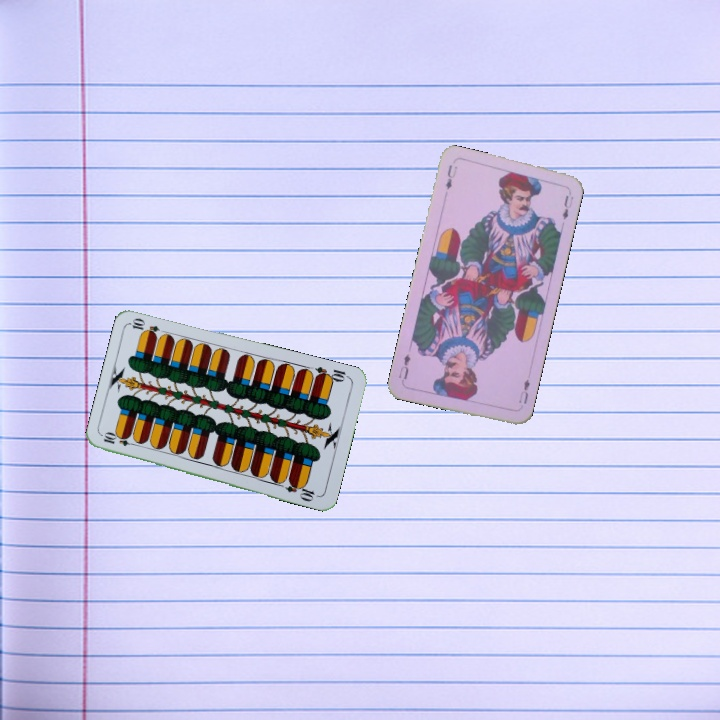E10: (311, 363, 352, 385), (99, 430, 140, 449)
EU: (514, 375, 533, 406), (441, 161, 460, 192)
